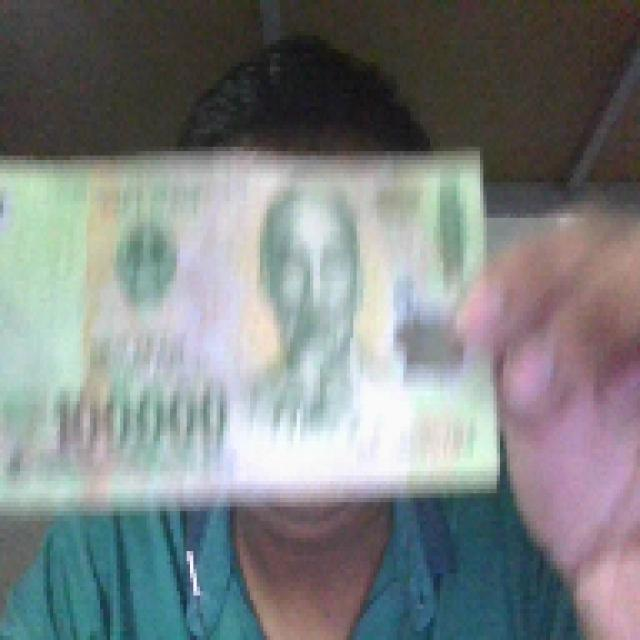100 000 VND: (0, 142, 503, 511)
